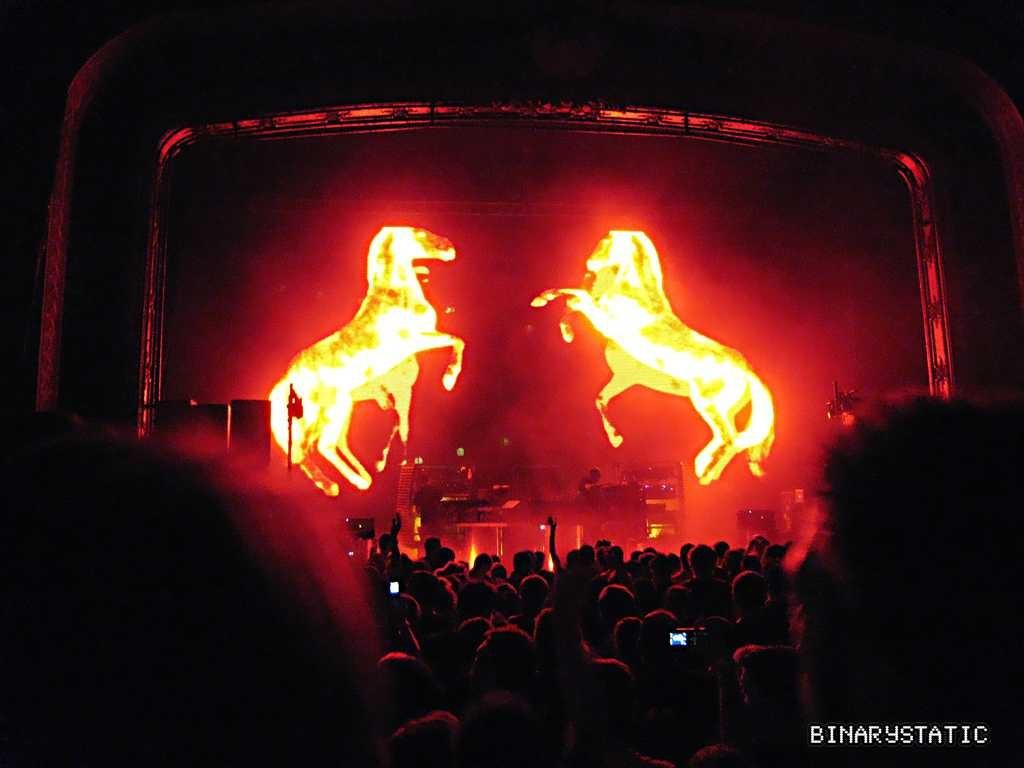fire: (634, 342, 724, 394), (302, 342, 368, 412), (586, 286, 662, 334), (374, 298, 424, 366), (598, 236, 640, 276), (714, 396, 756, 430)
